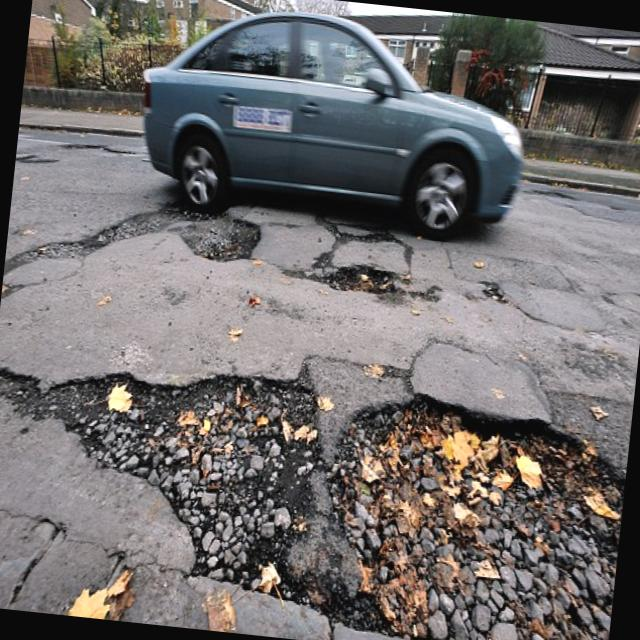bad-road: (0, 343, 628, 640), (2, 190, 264, 309), (282, 252, 424, 298)
